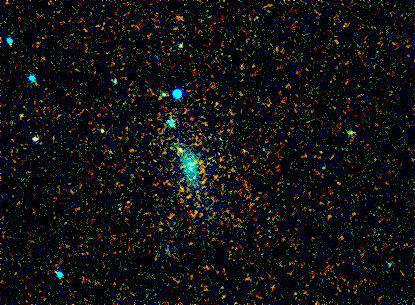star: (166, 136, 196, 166)
